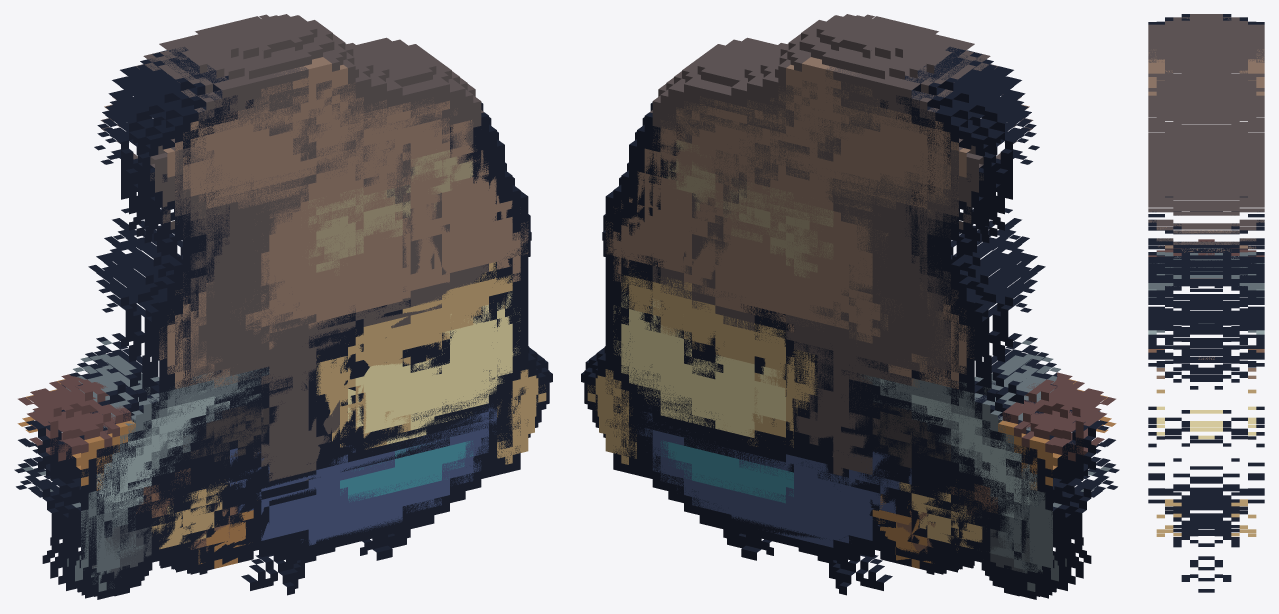
Rendered from picareta_parado.glb.
3 renders of one model, left to right at view 1: azimuth 30°, elevation 25°; view 2: azimuth 150°, elevation 25°; view 3: azimuth 270°, elevation 25°, orthographic. The views are drawn at different scales.
Visible parts, largest first — view 1: q0, q1, q2, q6, q5, q3, q7, q4; view 2: q0, q1, q2, q6, q3, q7, q5, q4; view 3: q2, q3, q1, q6, q0, q4, q5, q7.
Part boxes in pixels (x1,y1,x2,y2): q0: (14, 72, 520, 595); q1: (30, 80, 541, 596); q2: (40, 14, 546, 578); q6: (26, 22, 501, 599); q5: (34, 44, 512, 596); q3: (49, 15, 552, 568); q7: (17, 34, 511, 593); q4: (52, 74, 520, 584); q0: (613, 81, 1119, 595); q1: (592, 80, 1103, 596); q2: (587, 14, 1093, 572); q6: (629, 22, 1107, 599); q3: (581, 14, 1084, 568); q7: (621, 47, 1116, 592); q5: (621, 46, 1099, 596); q4: (603, 79, 1081, 584); q2: (1148, 37, 1264, 531); q3: (1148, 41, 1264, 535); q1: (1148, 58, 1264, 535); q6: (1148, 14, 1264, 495); q0: (1148, 76, 1264, 592); q4: (1148, 58, 1264, 547); q5: (1148, 45, 1264, 536); q7: (1148, 17, 1264, 518).
Size of the model in its own units: 65 by 67 by 14.
1 material, 1 textured.
